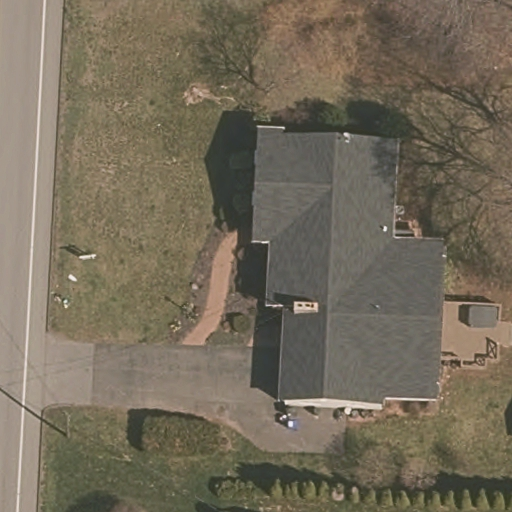DT: (52, 404, 82, 444)
